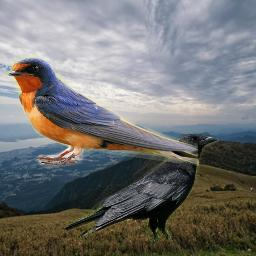Crow: (63, 134, 219, 243)
Swallow: (3, 53, 199, 172)
